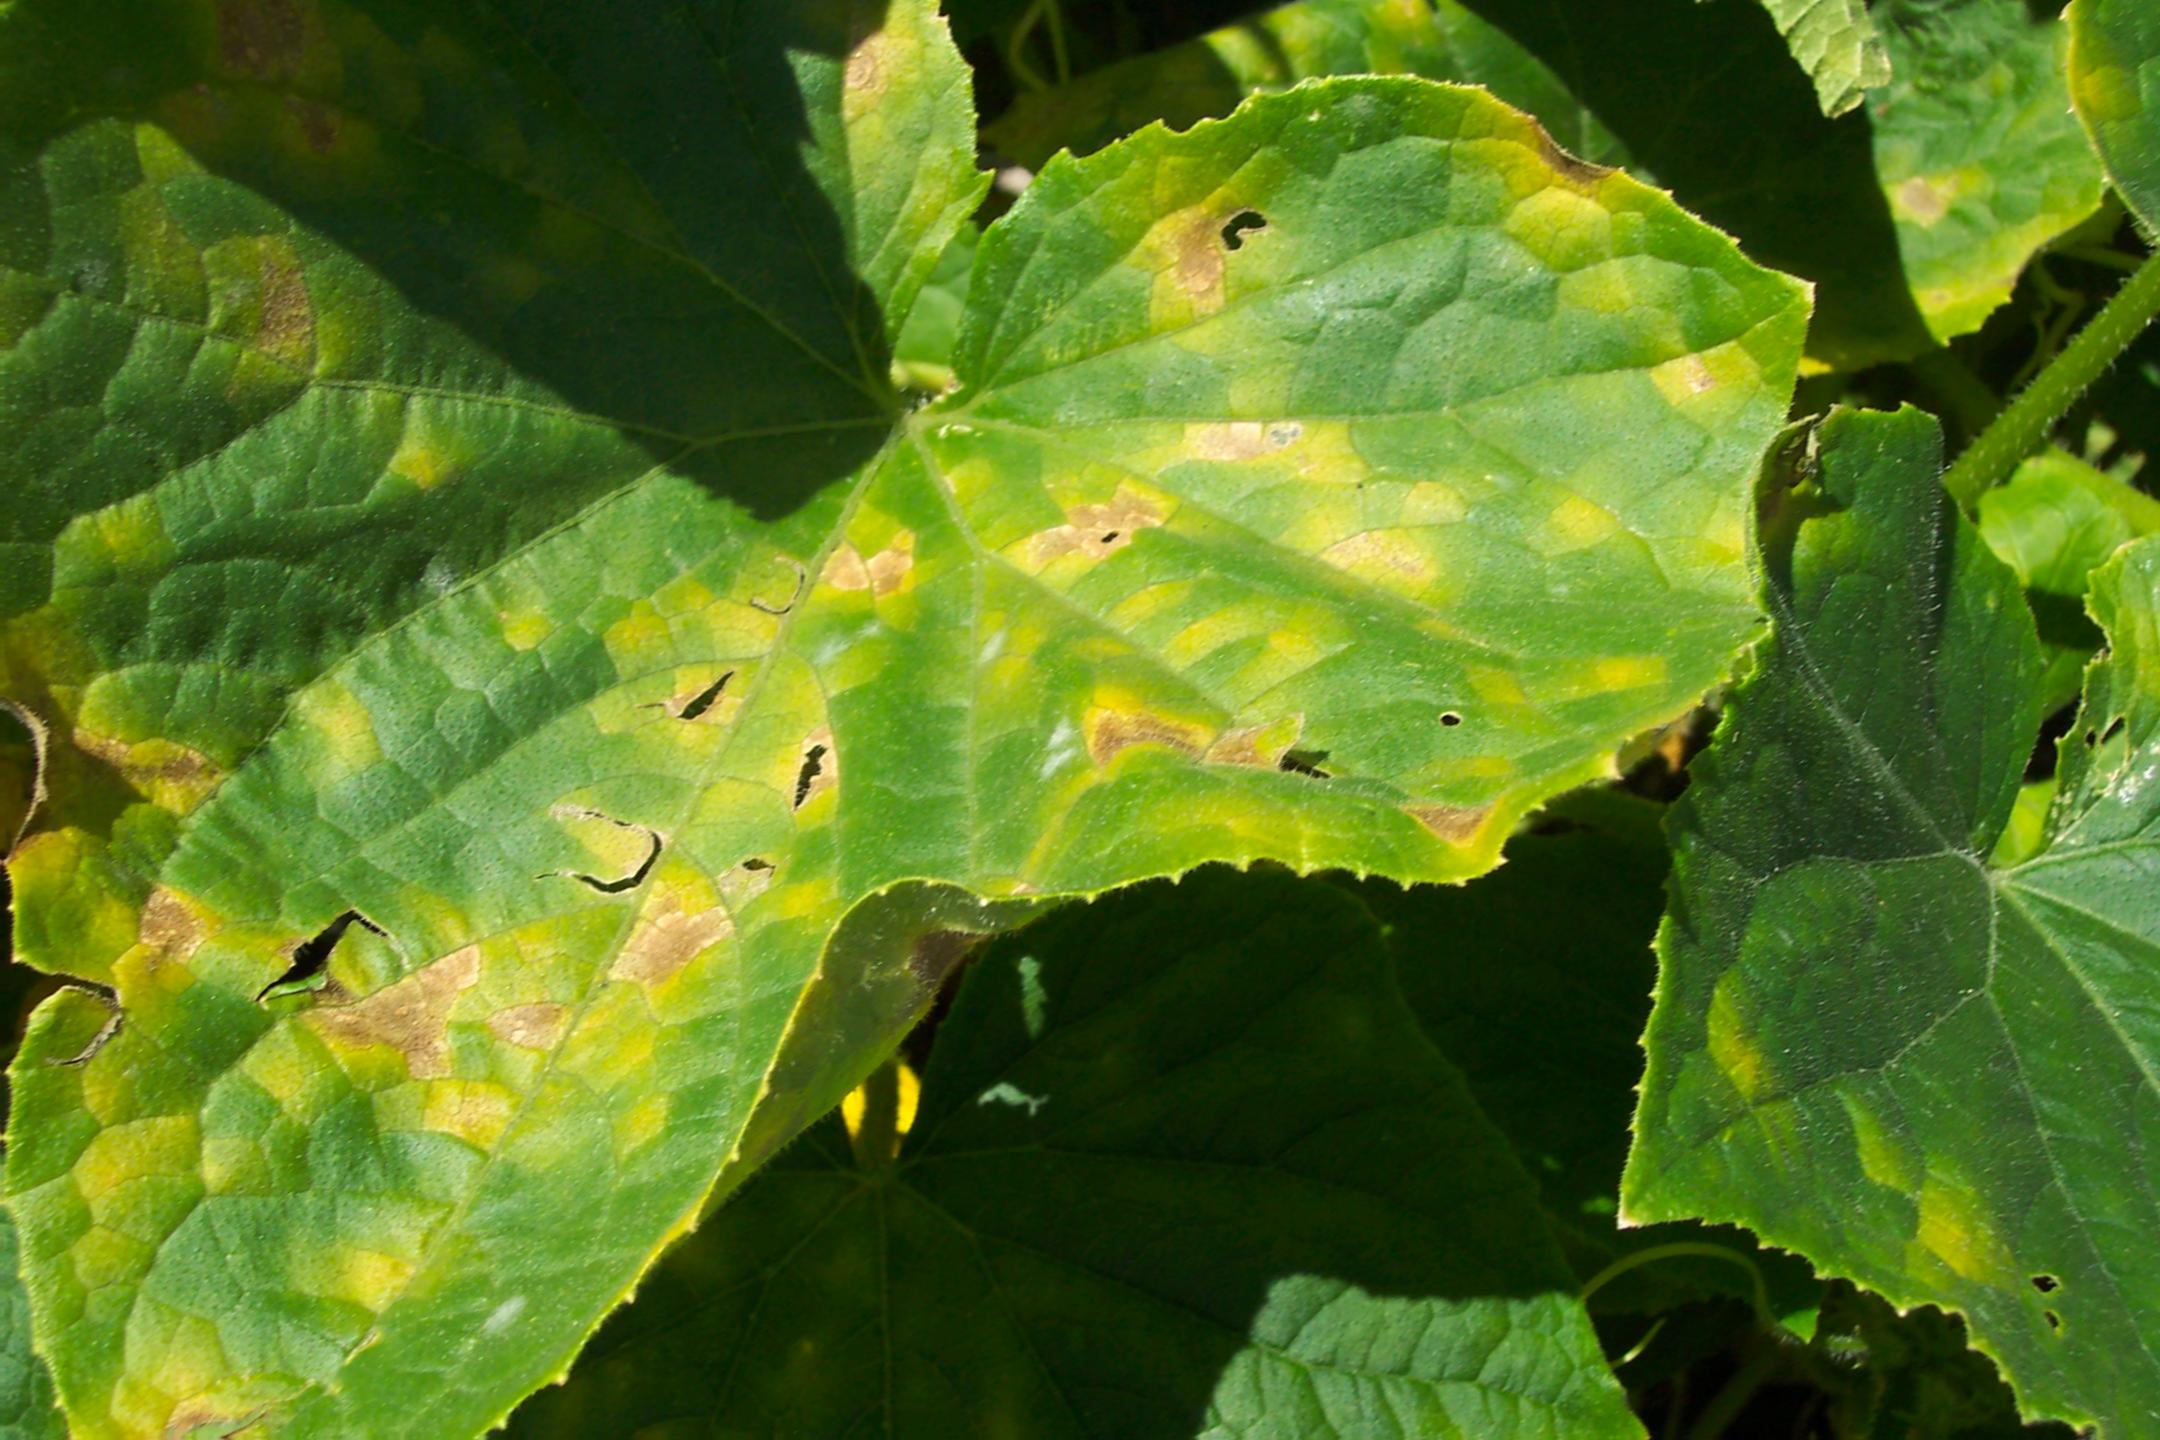Tomato mold leaf: (0, 59, 1859, 1440)
